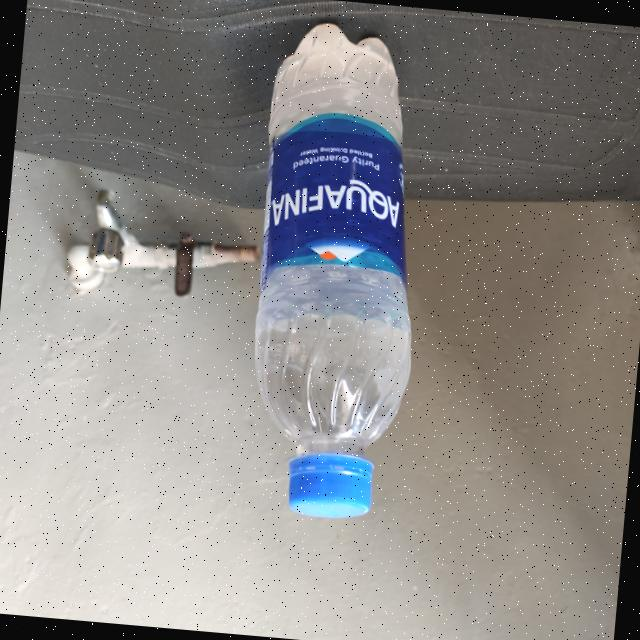bottle: (226, 11, 448, 530)
cap: (280, 454, 382, 529)
label: (252, 119, 416, 274)
